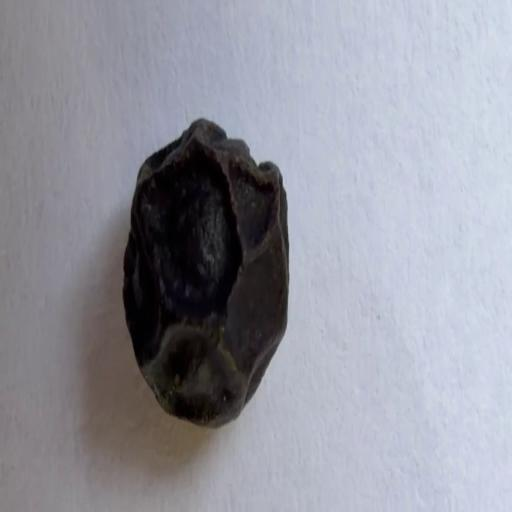Black_pepper: (104, 94, 306, 433)
